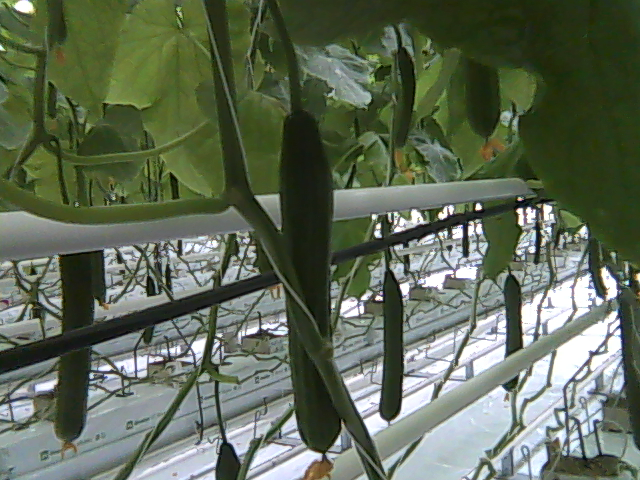concombre: (276, 108, 343, 480)
